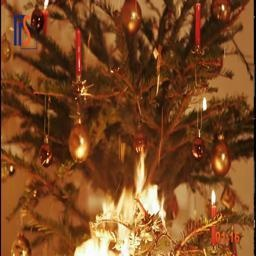fire: (69, 173, 168, 256)
